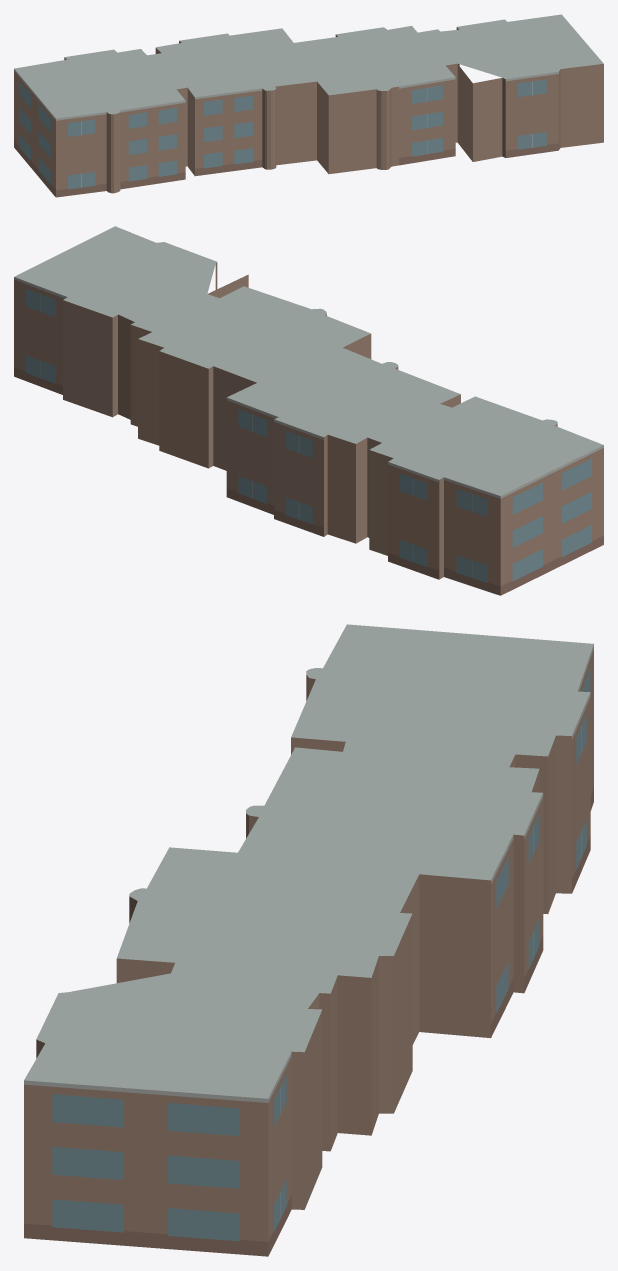
Rendered from survey-upis-32470400.glb.
3 views of the same model, one above another, from view 1: azimuth 30°, elevation 25°; view 2: azimuth 150°, elevation 25°; view 3: azimuth 270°, elevation 25° (orthographic). The views are drawn at different scales.
Parts seen in each view (by area): view 1: survey-upis-32470400.tmp; view 2: survey-upis-32470400.tmp; view 3: survey-upis-32470400.tmp.
Part boxes in pixels (box(x1,y1,x2,y2)): survey-upis-32470400.tmp: box(14, 14, 603, 197); survey-upis-32470400.tmp: box(14, 226, 603, 595); survey-upis-32470400.tmp: box(24, 624, 593, 1256).
Size of the model in its own units: 59.04 by 9.15 by 29.98.
